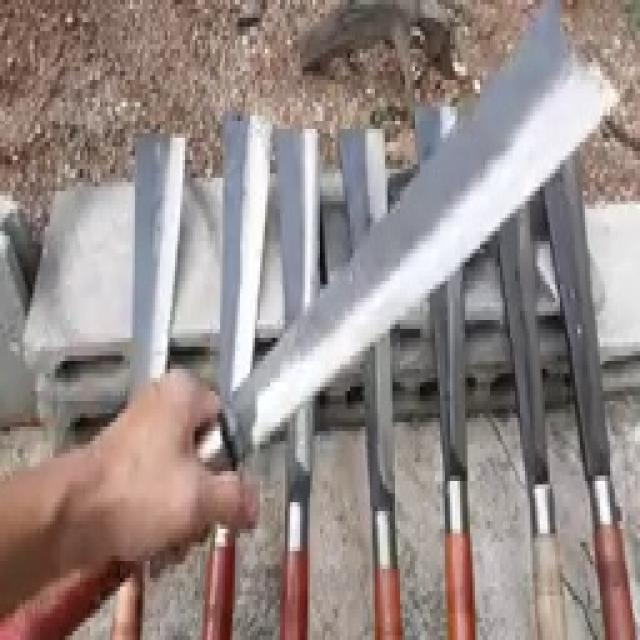eto: (205, 116, 273, 640)
